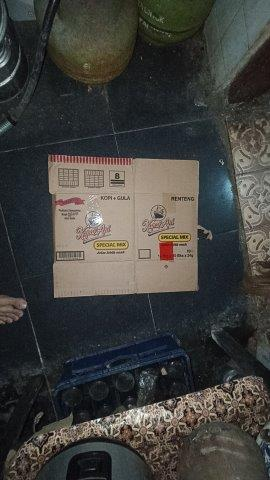kardus: (48, 155, 198, 297)
